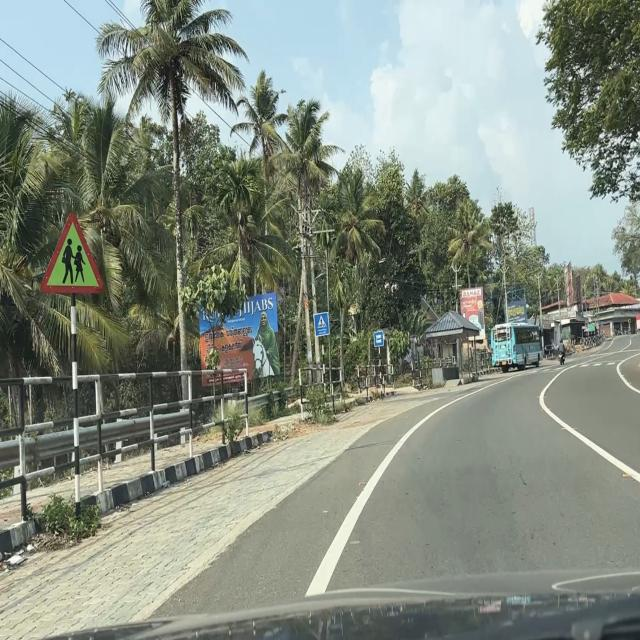INFORMATION: (373, 330, 384, 348)
PEDESTRIAN_CROSSING: (314, 311, 331, 337)
SCHOOL_AHEAD: (39, 211, 106, 294)
